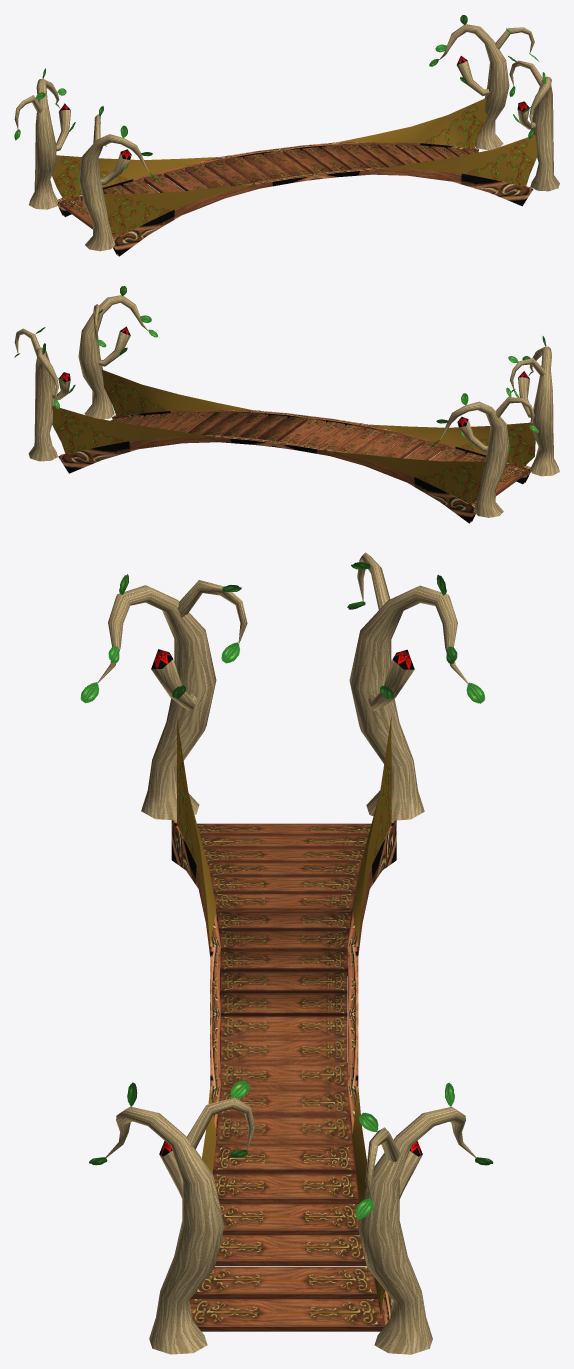
File: EKH_THRONE_PS_TH_BKBRIDGE65__GX.obj
3 views of the same model, one above another, from view 1: azimuth 30°, elevation 25°; view 2: azimuth 150°, elevation 25°; view 3: azimuth 270°, elevation 25° (orthographic). The views are drawn at different scales.
Visible parts, largest first — view 1: _BkBridge65__GX; view 2: _BkBridge65__GX; view 3: _BkBridge65__GX.
Boxes of the visible parts, left/top/right/bottom form: _BkBridge65__GX: left=14, top=15, right=559, bottom=256; _BkBridge65__GX: left=14, top=286, right=559, bottom=523; _BkBridge65__GX: left=80, top=552, right=493, bottom=1354.
Size of the model in its own units: 1057 by 363 by 368.
